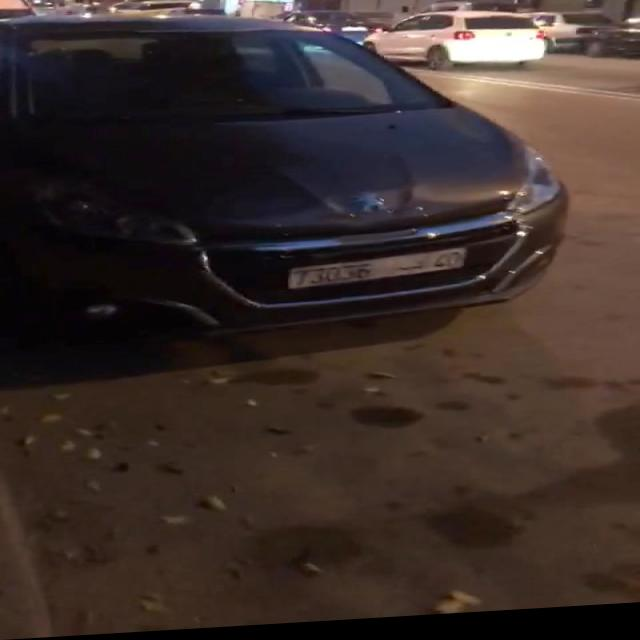License-Plate: (289, 254, 466, 292)
